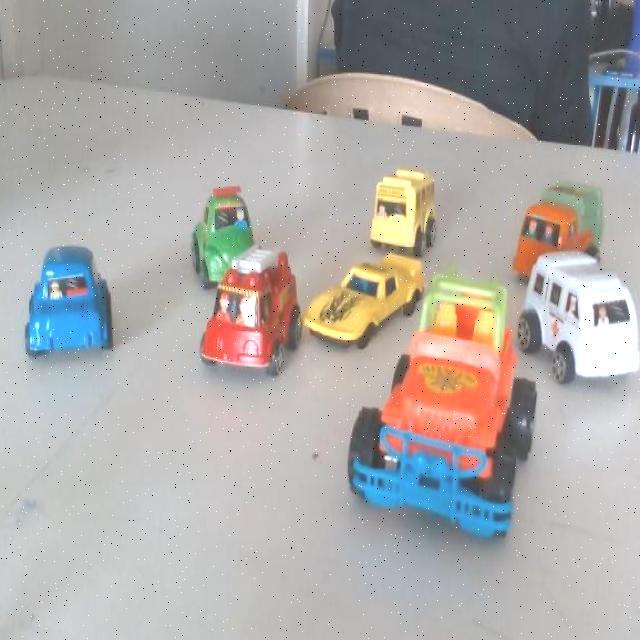car: (342, 331, 524, 557), (0, 229, 131, 399), (306, 247, 424, 362), (198, 245, 292, 387), (536, 262, 640, 376), (509, 174, 598, 281), (362, 158, 429, 255), (187, 193, 254, 282)
